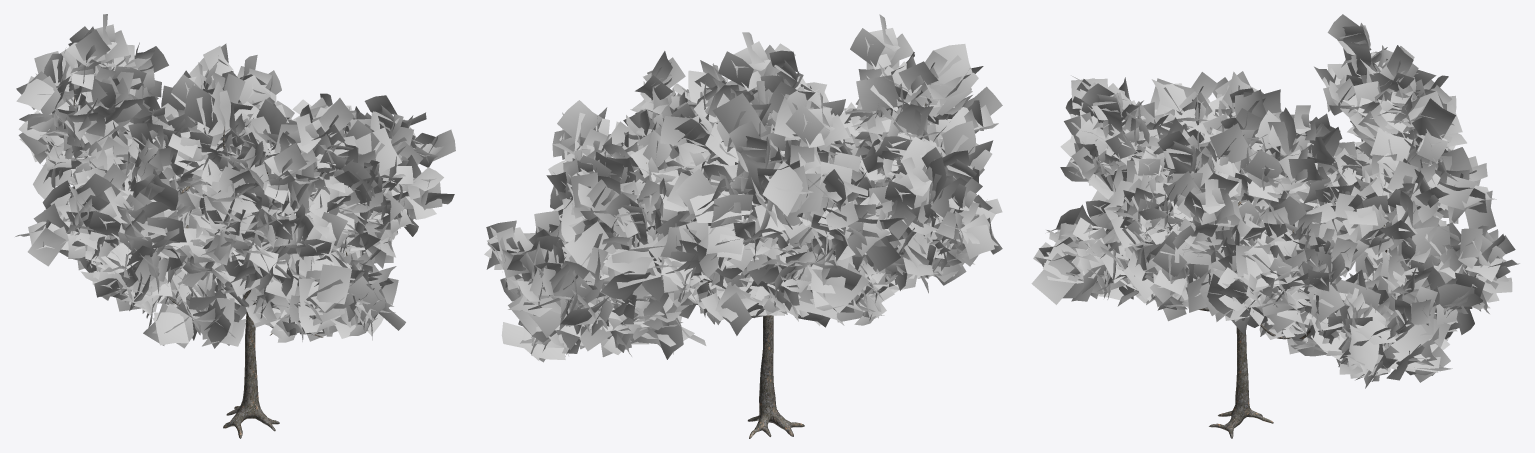
File: Tree7.fbx
3 renders of one model, left to right at view 1: azimuth 30°, elevation 25°; view 2: azimuth 150°, elevation 25°; view 3: azimuth 270°, elevation 25°, orthographic. The views are drawn at different scales.
Parts seen in each view (by area): view 1: tree7|branch7-1|Dupli|495, tree7|branch7-2|Dupli|108, tree7, tree7|branch7-1|Dupli|455, tree7|branch7-1|Dupli|89, tree7|branch7-2|Dupli|422, tree7|branch7-1|Dupli|297, tree7|branch7-2|Dupli|100, tree7|branch7-1|Dupli|487, tree7|branch7-2|Dupli|202, tree7|branch7-1|Dupli|203, tree7|branch7-2|Dupli|152 (+83 smaller); view 2: tree7|branch7-2|Dupli|202, tree7|branch7-1|Dupli|359, tree7|branch7-1|Dupli|19, tree7|branch7-1|Dupli|157, tree7|branch7-1|Dupli|91, tree7|branch7-1|Dupli|163, tree7|branch7-2|Dupli|152, tree7, tree7|branch7-2|Dupli|354, tree7|branch7-2|Dupli|436, tree7|branch7-2|Dupli|136, tree7|branch7-2|Dupli|364 (+72 smaller); view 3: tree7|branch7-2|Dupli|72, tree7|branch7-1|Dupli|157, tree7, tree7|branch7-2|Dupli|202, tree7|branch7-1|Dupli|17, tree7|branch7-1|Dupli|149, tree7|branch7-2|Dupli|136, tree7|branch7-1|Dupli|83, tree7|branch7-1|Dupli|403, tree7|branch7-2|Dupli|380, tree7|branch7-1|Dupli|413, tree7|branch7-2|Dupli|152 (+87 smaller).
Part boxes in pixels (x1,y1,x2,y2): tree7|branch7-1|Dupli|495: (297,264,361,325); tree7|branch7-2|Dupli|108: (15,203,85,266); tree7: (73,89,347,438); tree7|branch7-1|Dupli|455: (184,81,241,148); tree7|branch7-1|Dupli|89: (188,294,246,348); tree7|branch7-2|Dupli|422: (387,167,454,219); tree7|branch7-1|Dupli|297: (143,293,200,348); tree7|branch7-2|Dupli|100: (299,212,352,260); tree7|branch7-1|Dupli|487: (117,202,170,256); tree7|branch7-2|Dupli|202: (66,26,110,101); tree7|branch7-1|Dupli|203: (16,71,76,117); tree7|branch7-2|Dupli|152: (264,143,306,211); tree7|branch7-2|Dupli|202: (785,93,849,173); tree7|branch7-1|Dupli|359: (757,160,828,216); tree7|branch7-1|Dupli|19: (675,169,753,228); tree7|branch7-1|Dupli|157: (600,241,664,300); tree7|branch7-1|Dupli|91: (915,44,983,121); tree7|branch7-1|Dupli|163: (705,93,770,165); tree7|branch7-2|Dupli|152: (850,14,914,80); tree7: (646,103,925,438); tree7|branch7-2|Dupli|354: (728,121,770,204); tree7|branch7-2|Dupli|436: (718,32,780,94); tree7|branch7-2|Dupli|136: (635,51,685,128); tree7|branch7-2|Dupli|364: (696,282,762,335); tree7|branch7-2|Dupli|72: (1436,228,1505,283); tree7|branch7-1|Dupli|157: (1437,175,1496,229); tree7: (1129,74,1448,438); tree7|branch7-2|Dupli|202: (1327,14,1378,76); tree7|branch7-1|Dupli|17: (1326,318,1396,371); tree7|branch7-1|Dupli|149: (1031,253,1096,304); tree7|branch7-2|Dupli|136: (1184,179,1234,237); tree7|branch7-1|Dupli|83: (1434,272,1484,325); tree7|branch7-1|Dupli|403: (1236,243,1291,300); tree7|branch7-2|Dupli|380: (1369,191,1420,256); tree7|branch7-1|Dupli|413: (1187,269,1250,321); tree7|branch7-2|Dupli|152: (1081,83,1130,142).
Size of the model in its own units: 4558 by 3840 by 4644.
